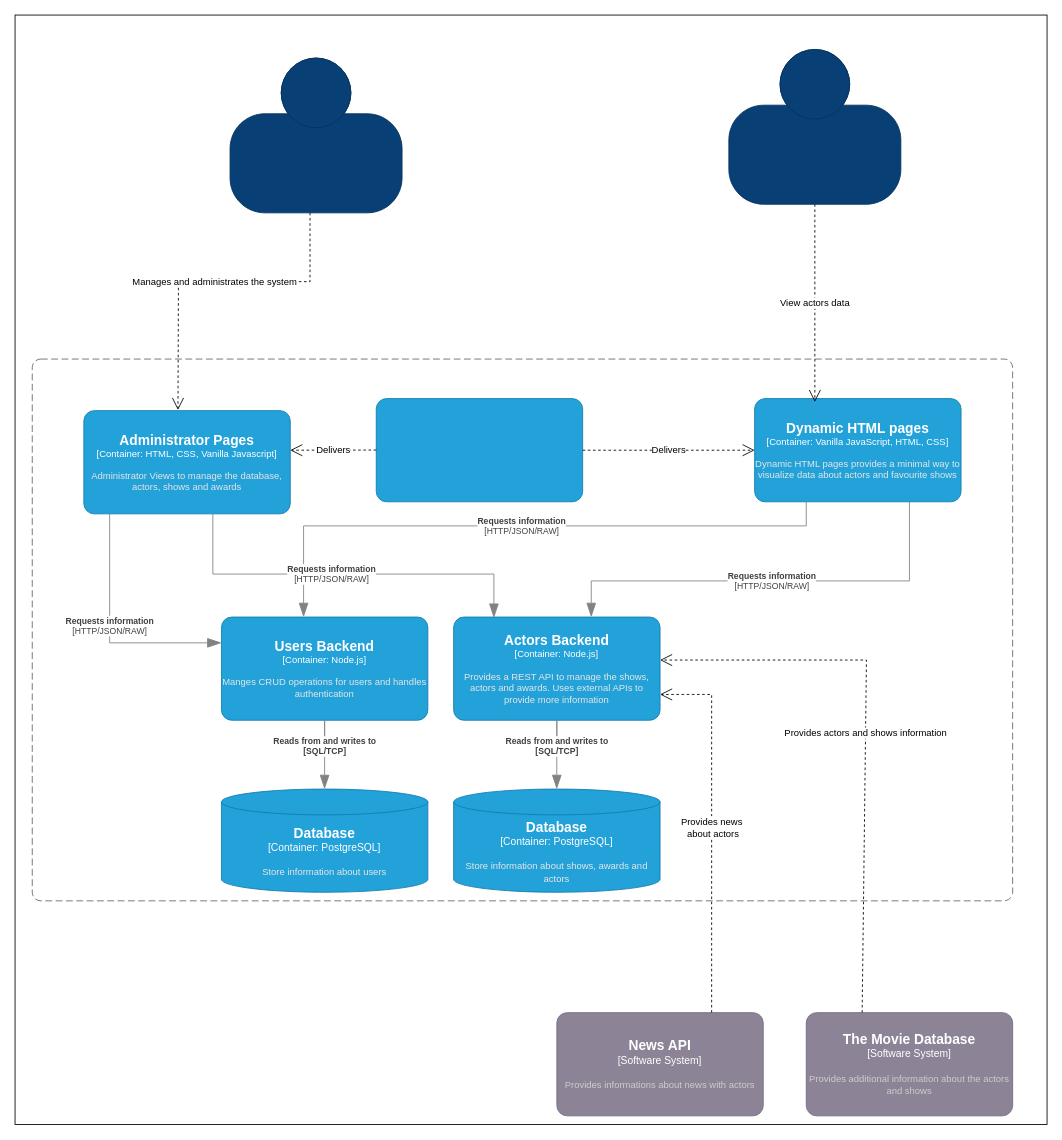
The diagram is 1062 pixels wide and 1140 high, and some of its shapes have lost their labels. The box of each missing label's shape, as (x1, y1, x2, y2) in pixels:
AcVis System [Software System]: (31, 358, 1013, 901)
Administrator [Person] Manages application: (229, 57, 402, 213)
User [Person] Application user: (728, 49, 901, 204)
Web server [Container: Node.js] Delivers HTML pages, CSS and JavaScript code: (375, 398, 583, 502)
